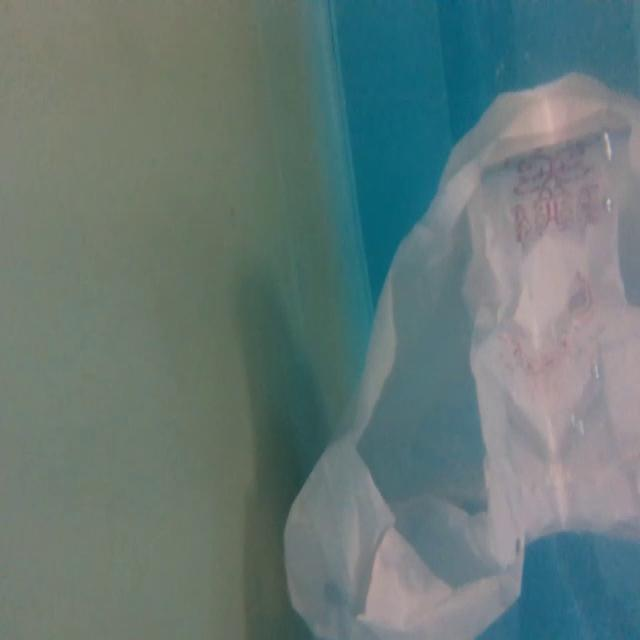plastic bags: (280, 60, 638, 640)
